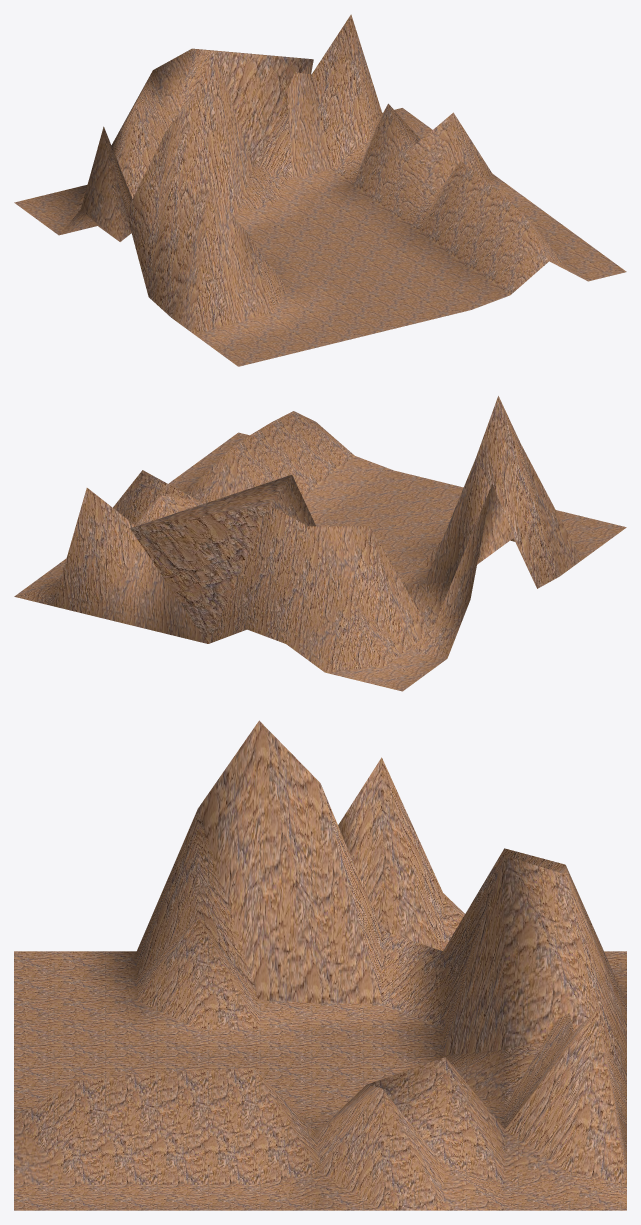
3 renders of one model, top to bottom at view 1: azimuth 30°, elevation 25°; view 2: azimuth 150°, elevation 25°; view 3: azimuth 270°, elevation 25°, orthographic. The views are drawn at different scales.
Parts seen in each view (by area): view 1: pPlane1; view 2: pPlane1; view 3: pPlane1.
Boxes of the visible parts, x1=… form: pPlane1: x1=14, y1=14, x2=626, y2=366; pPlane1: x1=14, y1=396, x2=626, y2=691; pPlane1: x1=14, y1=720, x2=626, y2=1210.
Size of the model in its own units: 24.41 by 11.27 by 24.38.
Materials: 1 (1 with a texture image).
